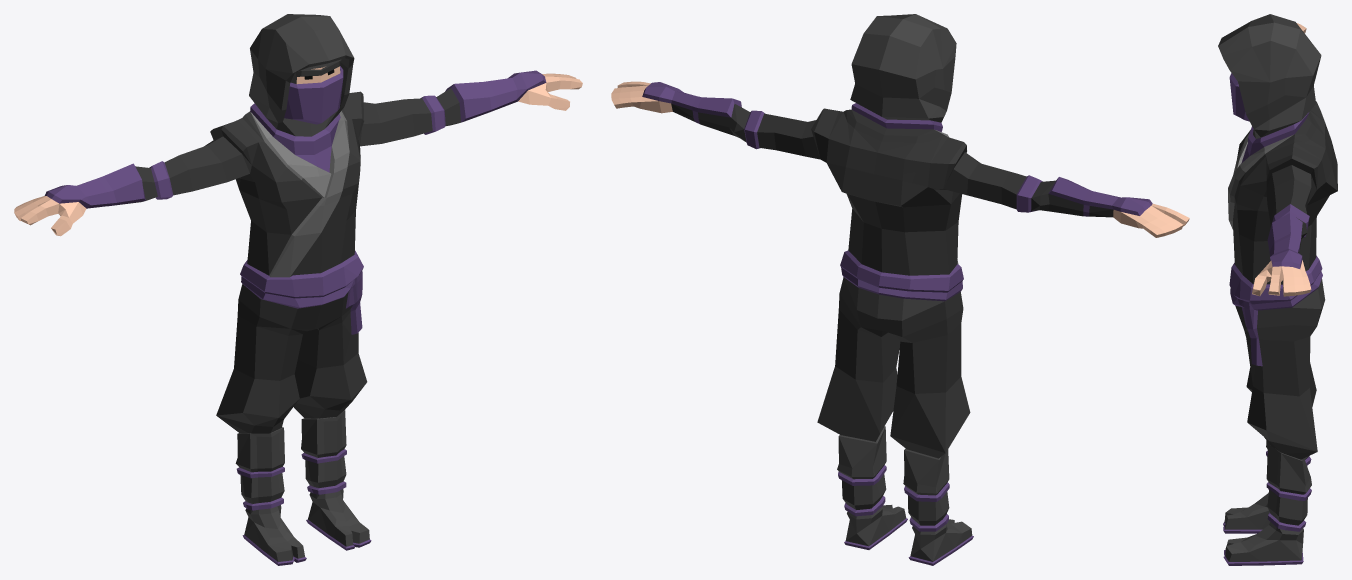
File: NinjaFbx.fbx
3 renders of one model, left to right at view 1: azimuth 30°, elevation 25°; view 2: azimuth 150°, elevation 25°; view 3: azimuth 270°, elevation 25°, orthographic.
Parts seen in each view (by area): view 1: Character_Ninja; view 2: Character_Ninja; view 3: Character_Ninja.
Part boxes in pixels (<box>): Character_Ninja: <box>14,14,582,565</box>; Character_Ninja: <box>611,14,1189,565</box>; Character_Ninja: <box>1218,14,1337,565</box>.
Bounding box in the file's own units: 205 × 182 × 37.94.
